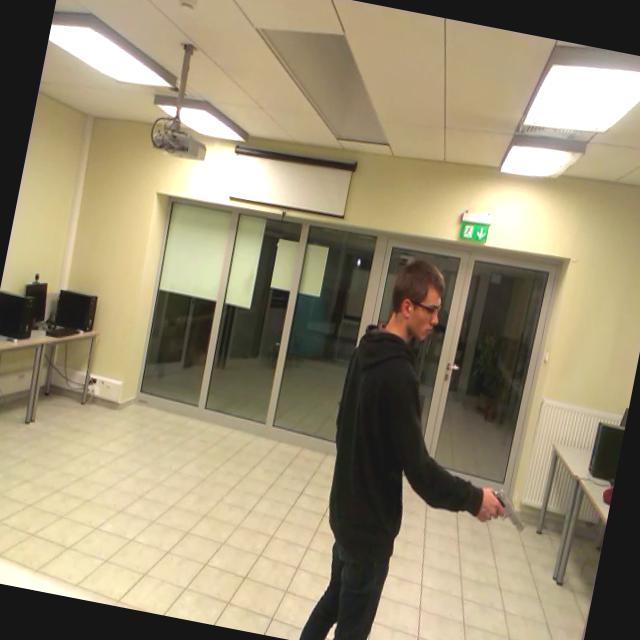handgun: (472, 468, 544, 550)
